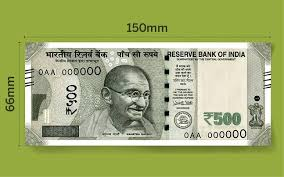fiveHundred: (36, 59, 253, 130)
